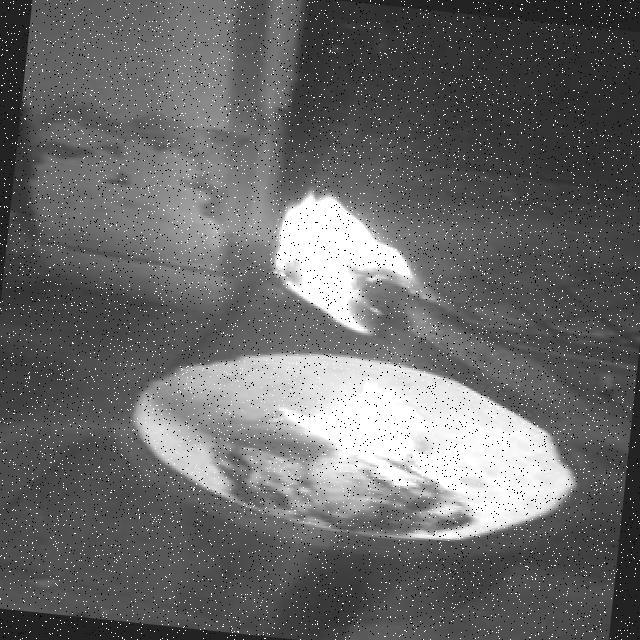Fire: (229, 178, 451, 347), (274, 377, 477, 495)
